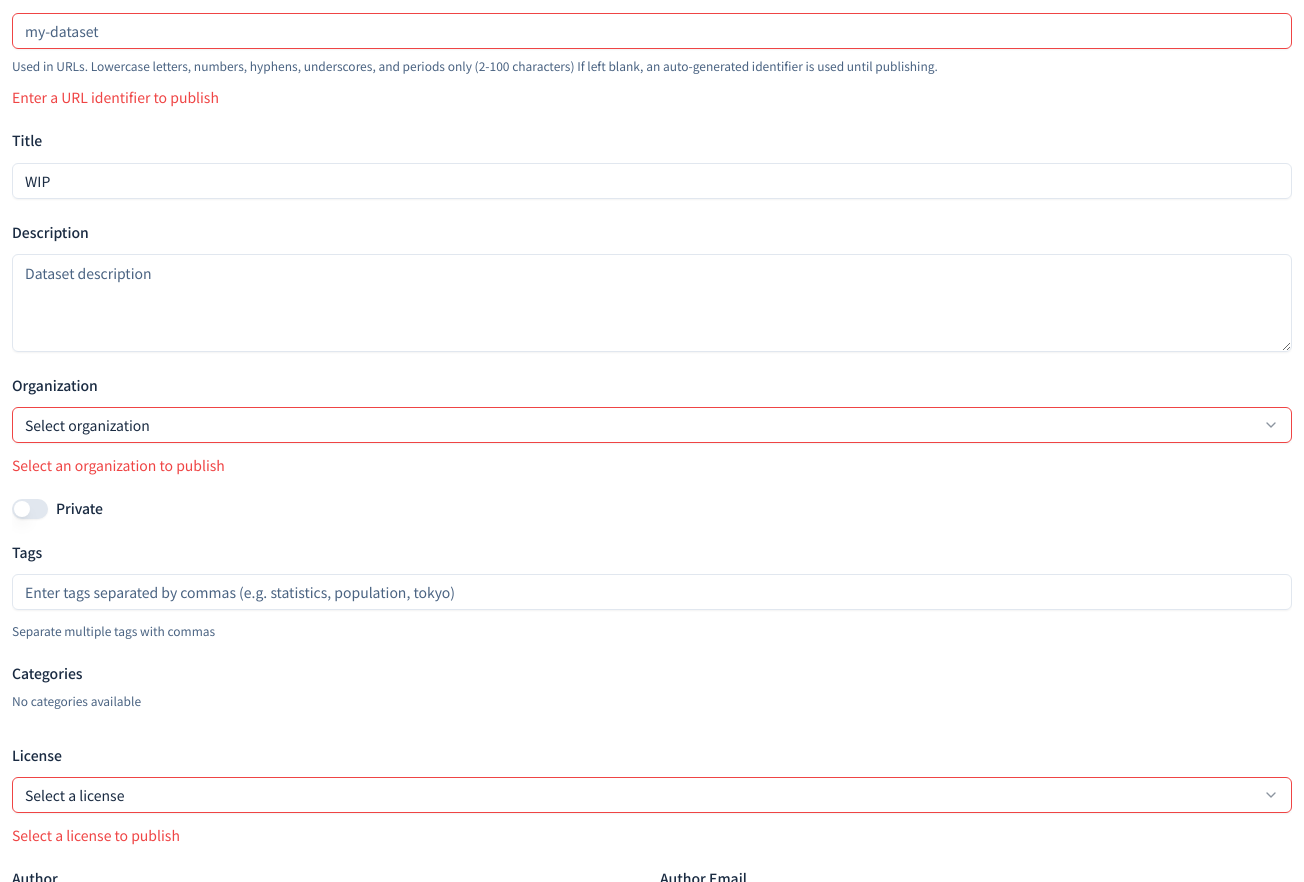
Test: DatasetForm (draft flows) › edit mode (draft) — dirty gating › should disable Save Draft again after a successful save
Replace the text in the field labelled "Tags" with "stats": (652, 592) [12,574,1292,610]
(page scrolled)
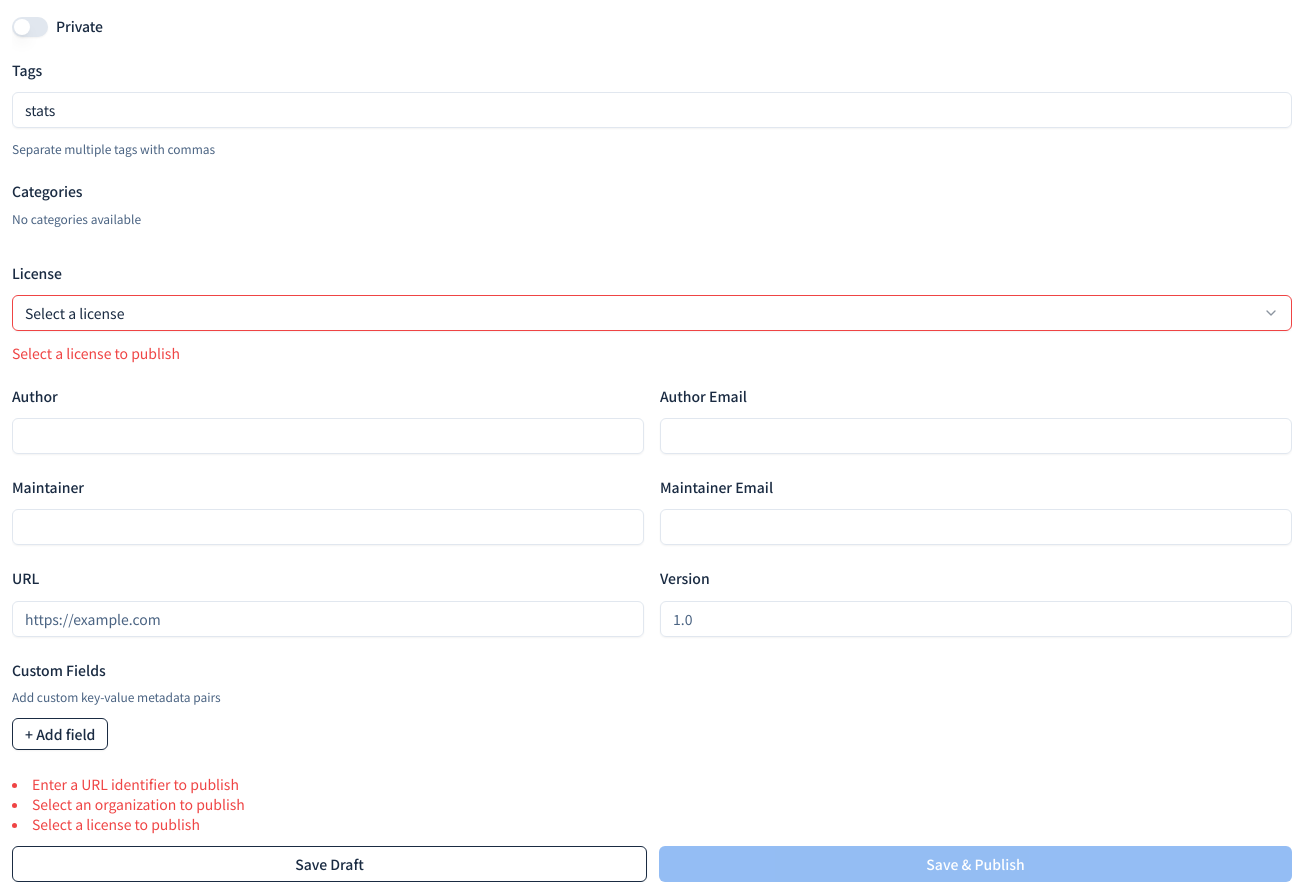
Click the button "Save Draft": (330, 864) [12,846,647,881]
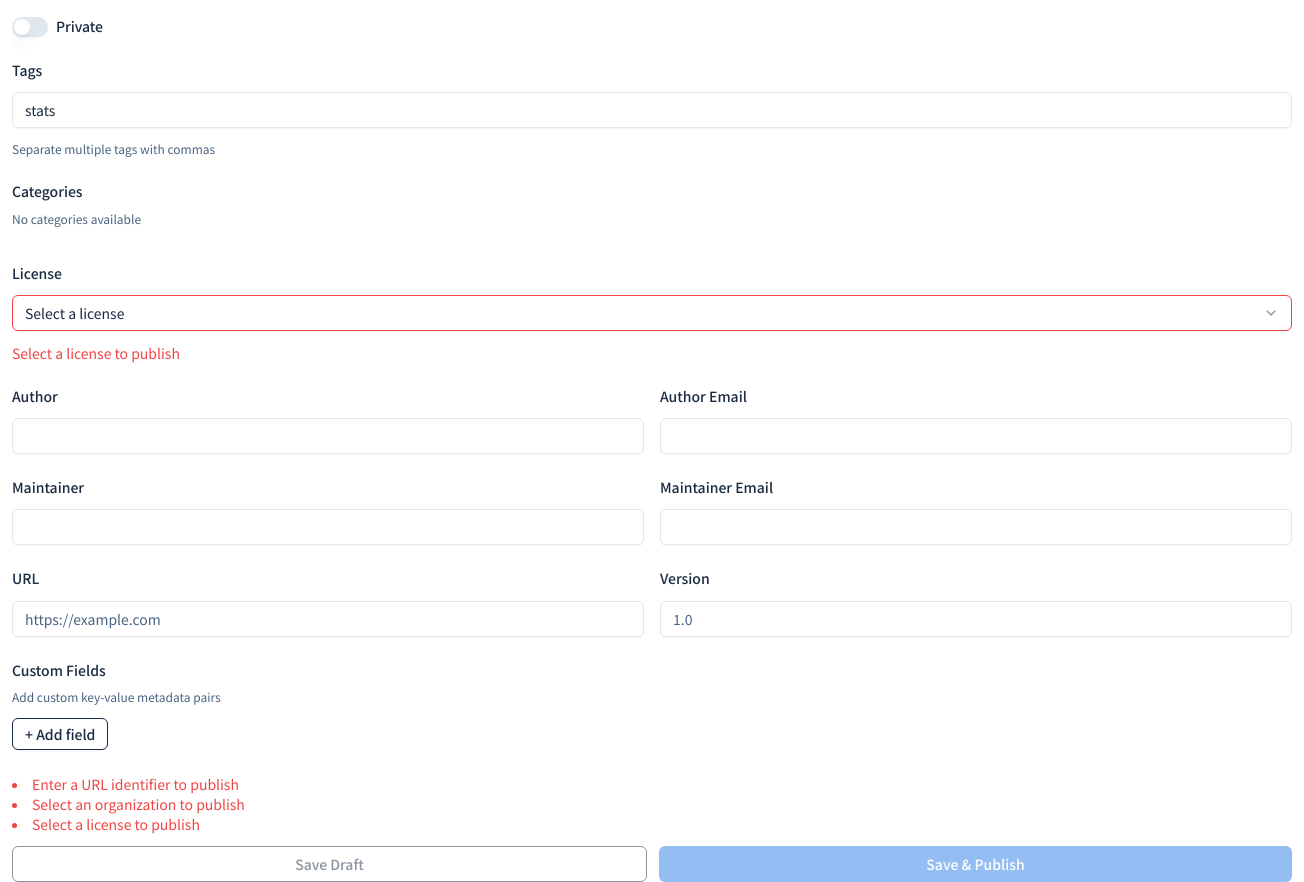
Check: the button "Save Draft" is disabled, box [12,846,647,881]
